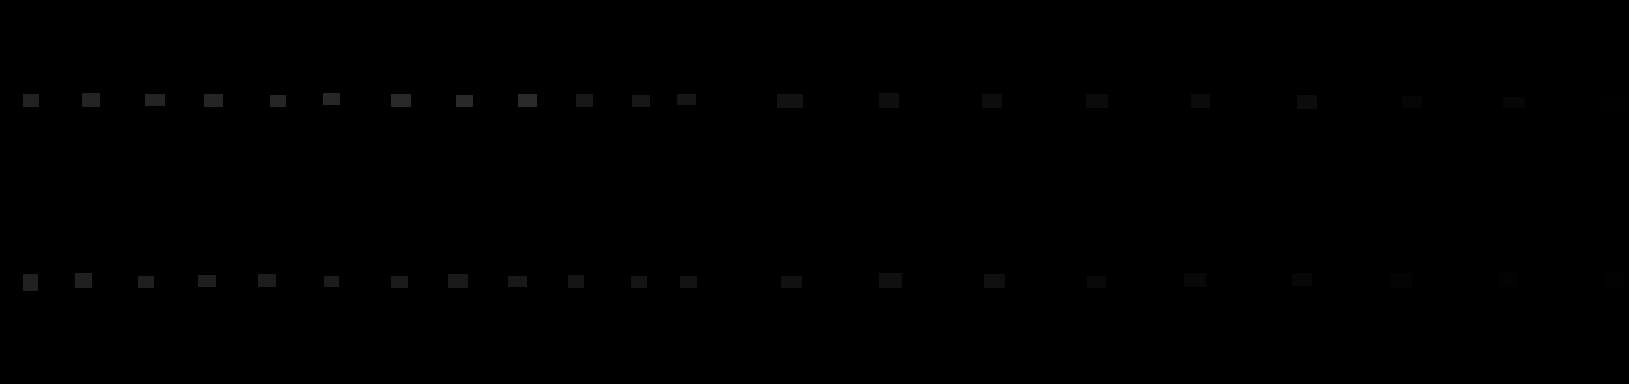light: (879, 273, 902, 289), (777, 94, 803, 108), (1391, 273, 1412, 289), (1184, 273, 1206, 287), (1086, 94, 1109, 108), (984, 274, 1005, 289), (1605, 272, 1624, 287), (1499, 272, 1518, 287), (879, 93, 899, 108), (448, 274, 468, 289), (1297, 95, 1317, 109), (75, 273, 92, 289), (1292, 273, 1312, 286), (1191, 94, 1210, 108), (982, 94, 1002, 108), (781, 276, 802, 289), (23, 274, 38, 291), (391, 94, 411, 107), (258, 274, 276, 287), (1503, 97, 1525, 108), (1403, 95, 1422, 108), (1087, 276, 1106, 289), (204, 94, 223, 107), (82, 93, 100, 107), (518, 94, 537, 107), (145, 94, 165, 106), (1607, 97, 1625, 109), (576, 94, 593, 107), (391, 276, 408, 289), (198, 275, 216, 287), (632, 95, 650, 107), (508, 276, 527, 287), (568, 275, 584, 289), (680, 276, 697, 289), (631, 276, 647, 289), (23, 94, 39, 107), (677, 94, 696, 105), (138, 276, 154, 289), (323, 93, 340, 105), (456, 95, 473, 107), (270, 95, 286, 107), (324, 276, 339, 287)
